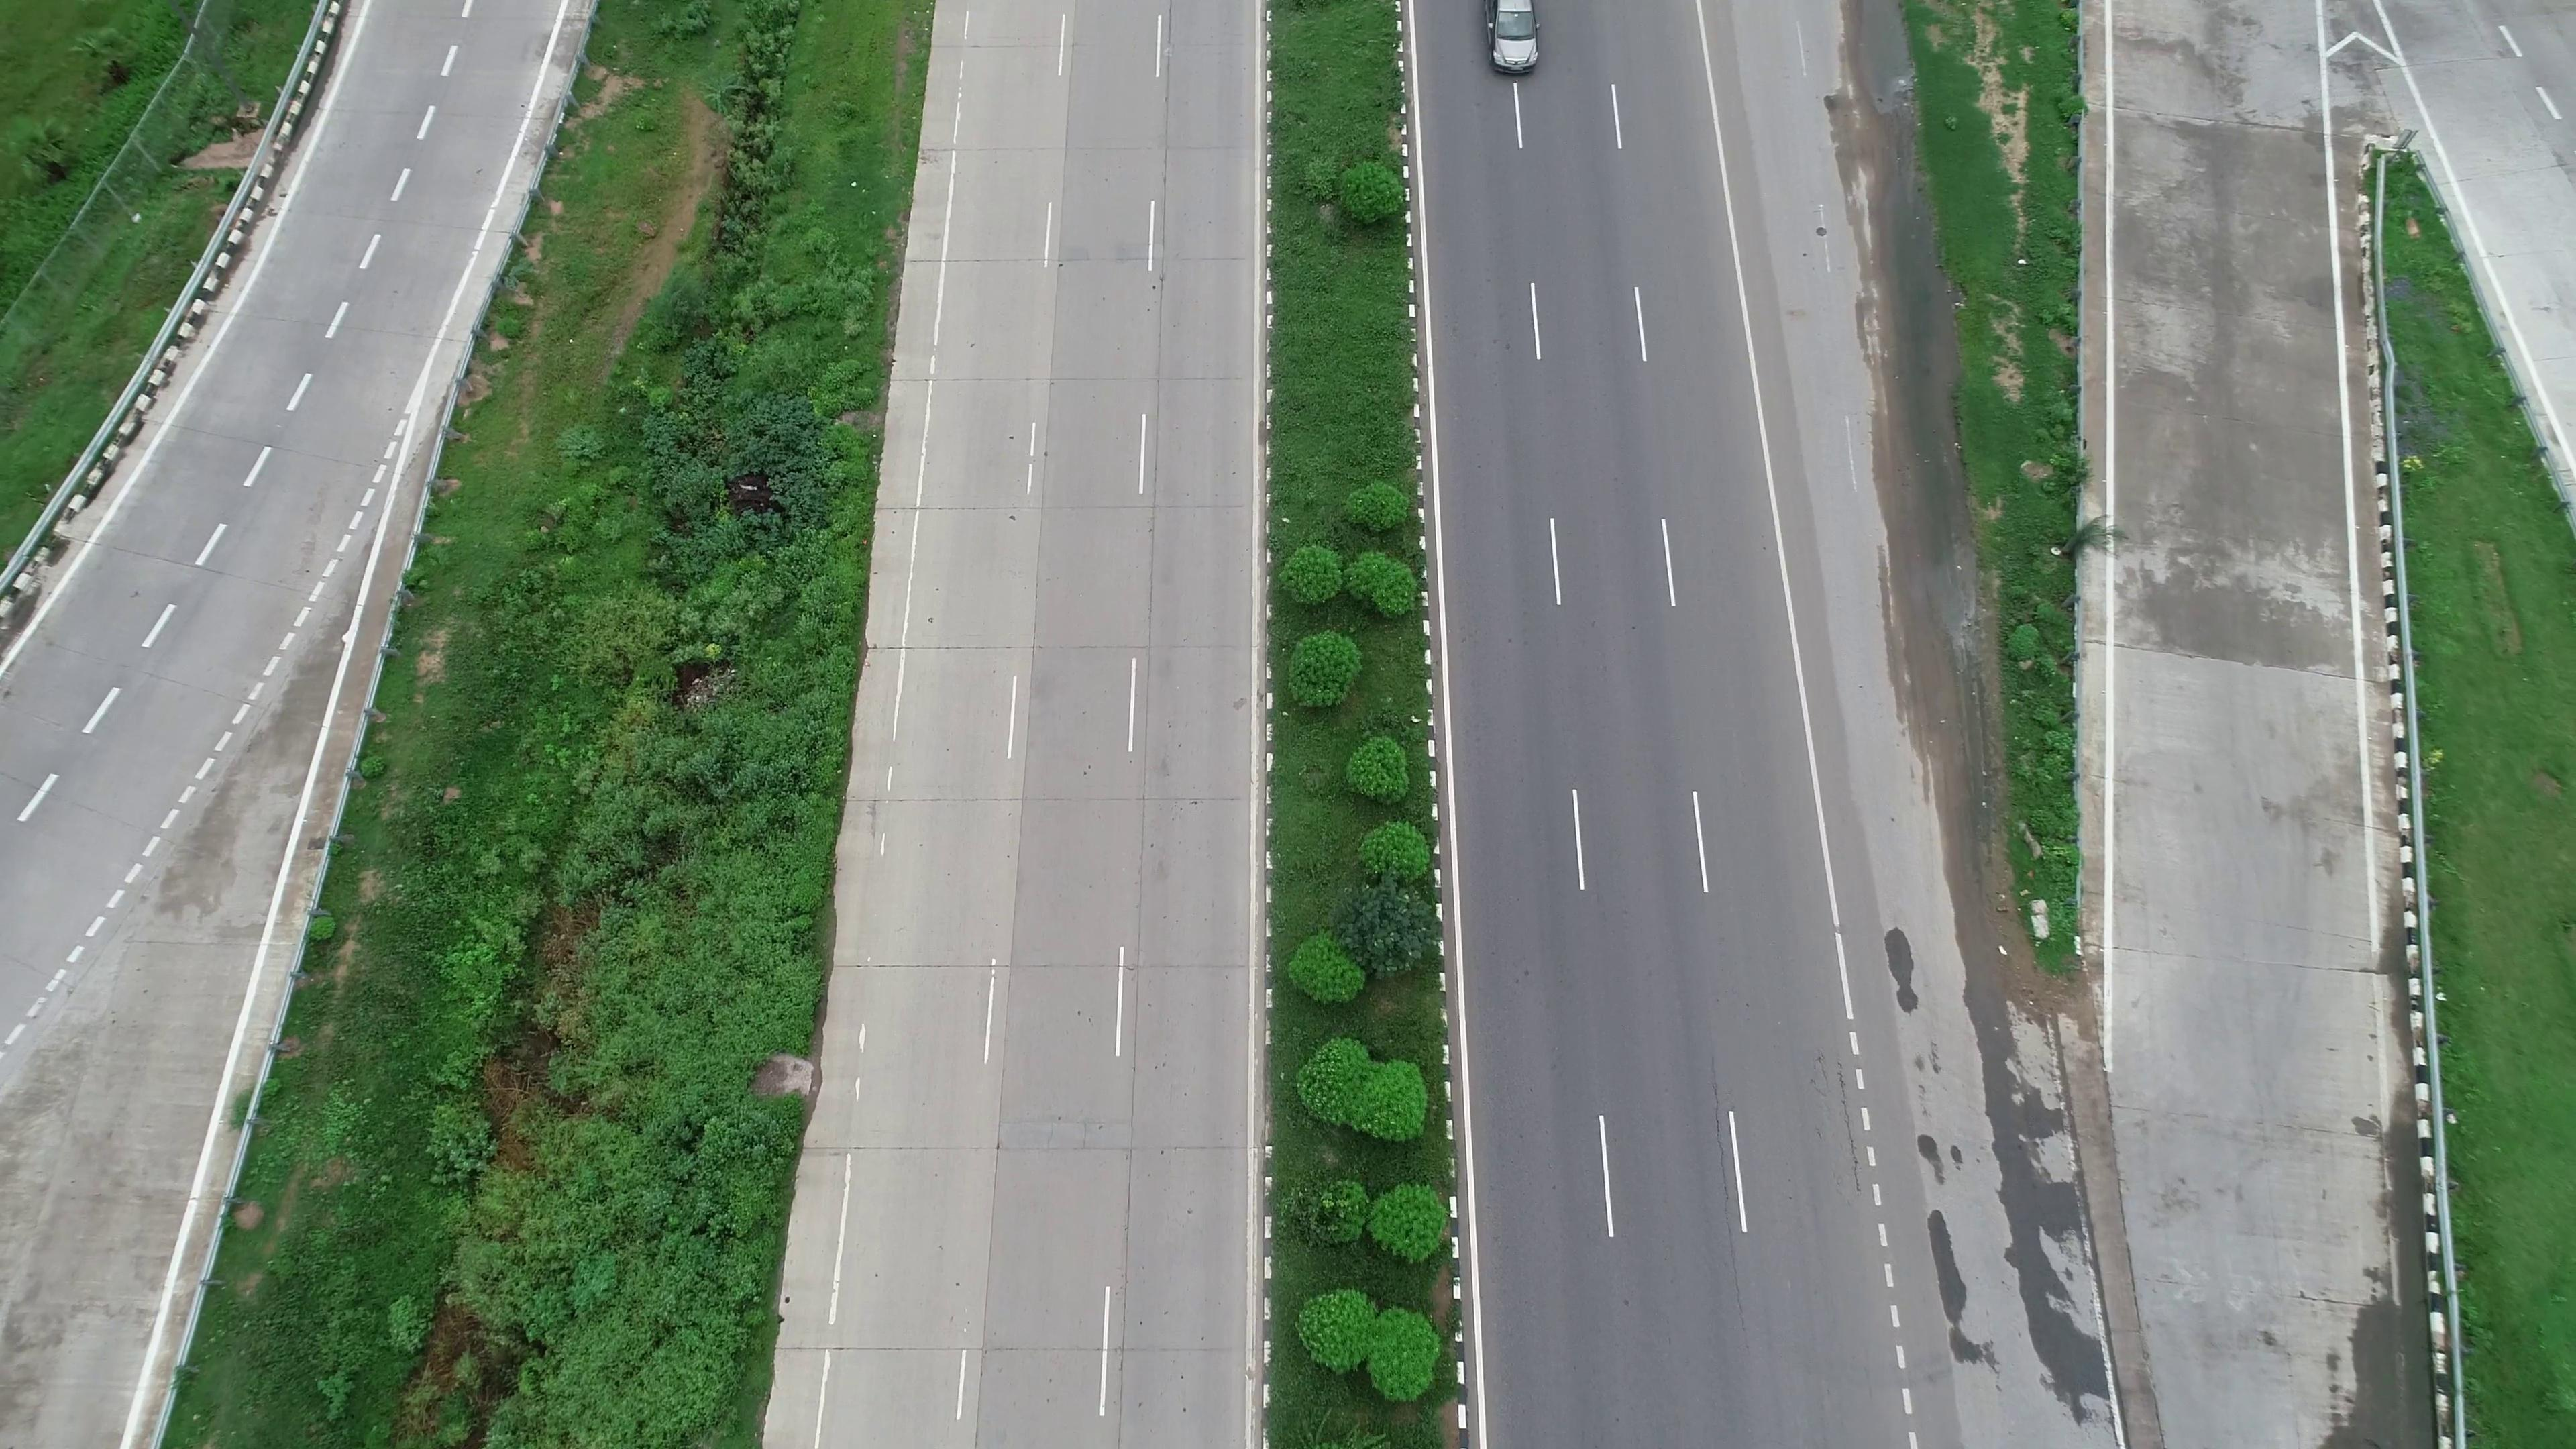Longitudinal_cracks: (1688, 1047, 1746, 1307), (1813, 1054, 1865, 1200)
